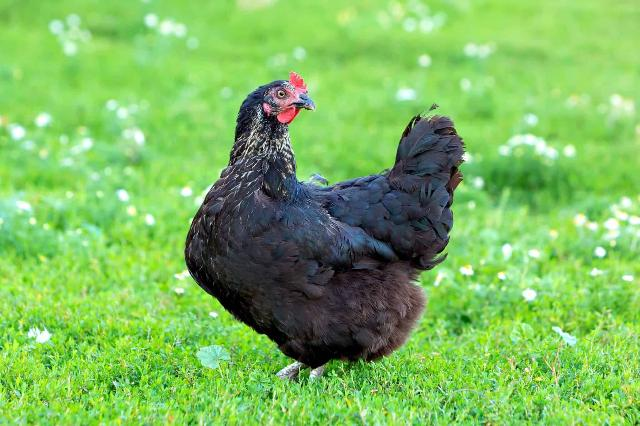Chicken: (185, 72, 467, 383)
